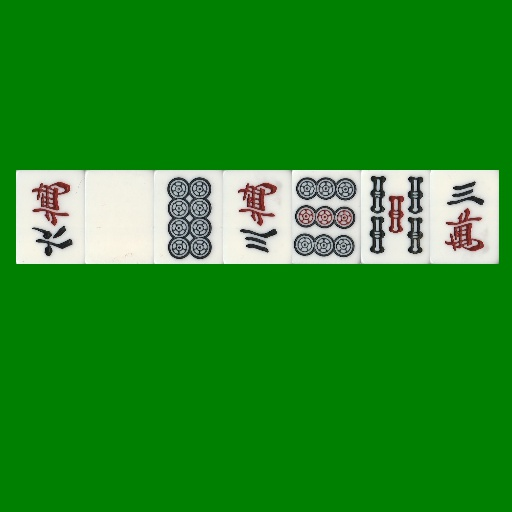3m: (223, 170, 292, 264), (430, 170, 499, 264)
5s: (361, 170, 430, 264)
6m: (16, 170, 85, 264)
8p: (154, 170, 223, 264)
9p: (292, 170, 361, 264)
white: (85, 170, 154, 264)
